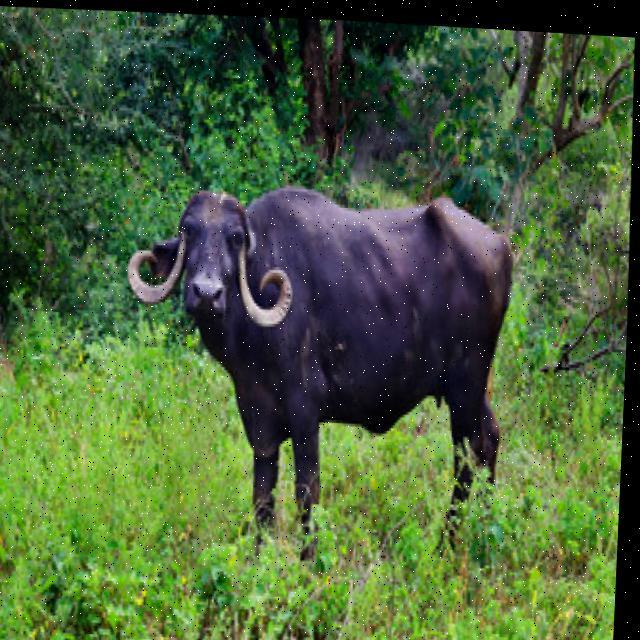Buffalo: (109, 163, 524, 575)
